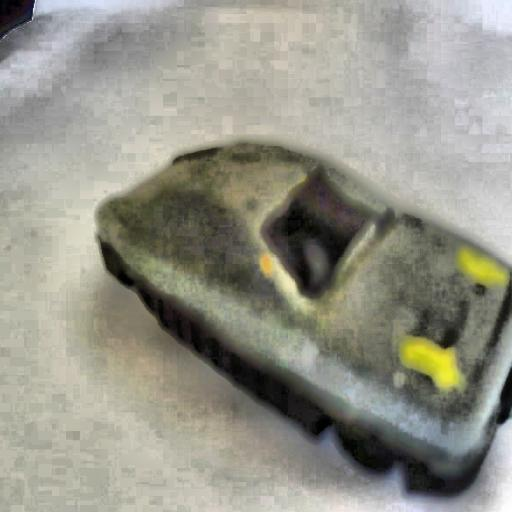normal_car: (71, 117, 512, 496)
